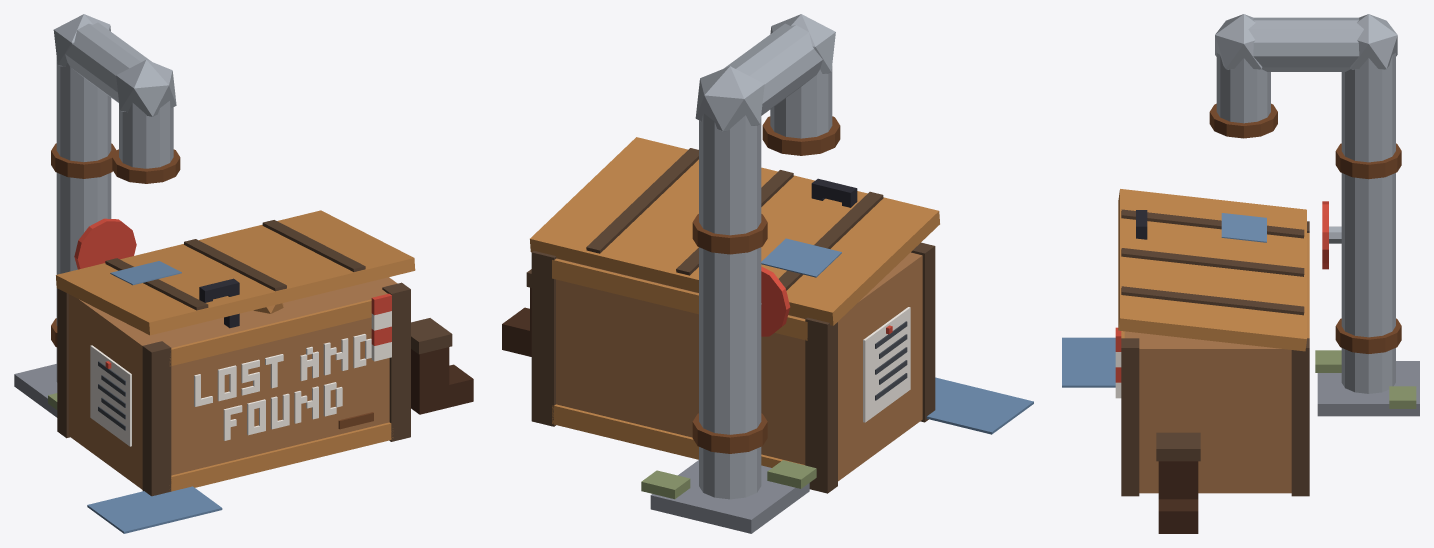
Rendered from CatCafe_Camp_Sewer_LostFound.glb.
3 renders of one model, left to right at view 1: azimuth 30°, elevation 25°; view 2: azimuth 150°, elevation 25°; view 3: azimuth 270°, elevation 25°, orthographic. The views are drawn at different scales.
Parts seen in each view (by area): view 1: CatCafe_Camp_Sewer_LostFound, CatCafe_Camp_Sewer_LostFound_Lid; view 2: CatCafe_Camp_Sewer_LostFound, CatCafe_Camp_Sewer_LostFound_Lid; view 3: CatCafe_Camp_Sewer_LostFound, CatCafe_Camp_Sewer_LostFound_Lid.
Part boxes in pixels (left/top/right/bottom): CatCafe_Camp_Sewer_LostFound: left=14, top=14, right=473, bottom=533; CatCafe_Camp_Sewer_LostFound_Lid: left=56, top=210, right=415, bottom=335; CatCafe_Camp_Sewer_LostFound: left=502, top=14, right=1033, bottom=533; CatCafe_Camp_Sewer_LostFound_Lid: left=530, top=137, right=939, bottom=325; CatCafe_Camp_Sewer_LostFound: left=1062, top=14, right=1419, bottom=533; CatCafe_Camp_Sewer_LostFound_Lid: left=1118, top=189, right=1306, bottom=351.
Size of the model in its own units: 4.05 by 3.72 by 3.15.
1 material, 1 textured.
